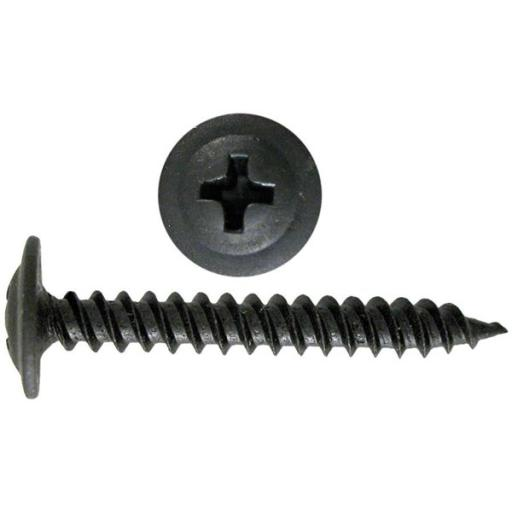Phillips: (160, 110, 322, 279)
